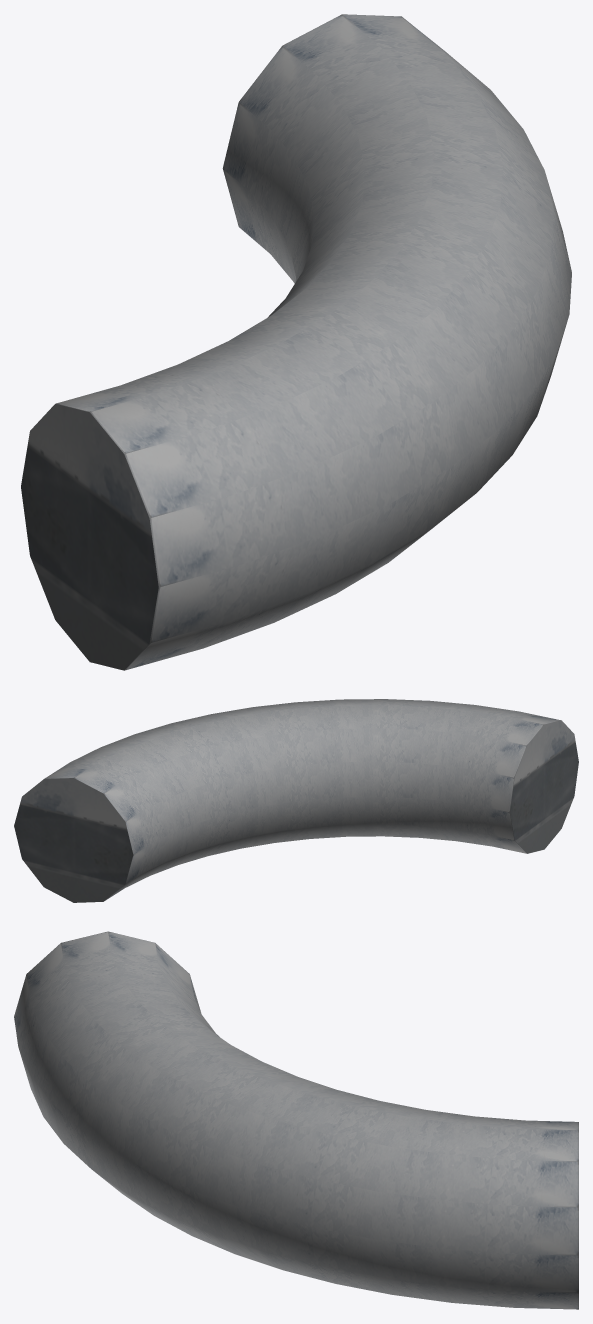
File: SM_Pipe1c.fbx
The picture shows the model from 3 angles, top to bottom: view 1: azimuth 30°, elevation 25°; view 2: azimuth 150°, elevation 25°; view 3: azimuth 270°, elevation 25°; orthographic projection. The views are drawn at different scales.
Visible parts, largest first — view 1: SM_Pipe1c_LOD0; view 2: SM_Pipe1c_LOD0; view 3: SM_Pipe1c_LOD0.
Boxes of the visible parts, x1,y1,x2,y2 form: SM_Pipe1c_LOD0: (21, 14, 571, 670); SM_Pipe1c_LOD0: (14, 699, 578, 902); SM_Pipe1c_LOD0: (14, 931, 578, 1309).
Size of the model in its own units: 120 by 120 by 40.
1 material, 1 textured.
